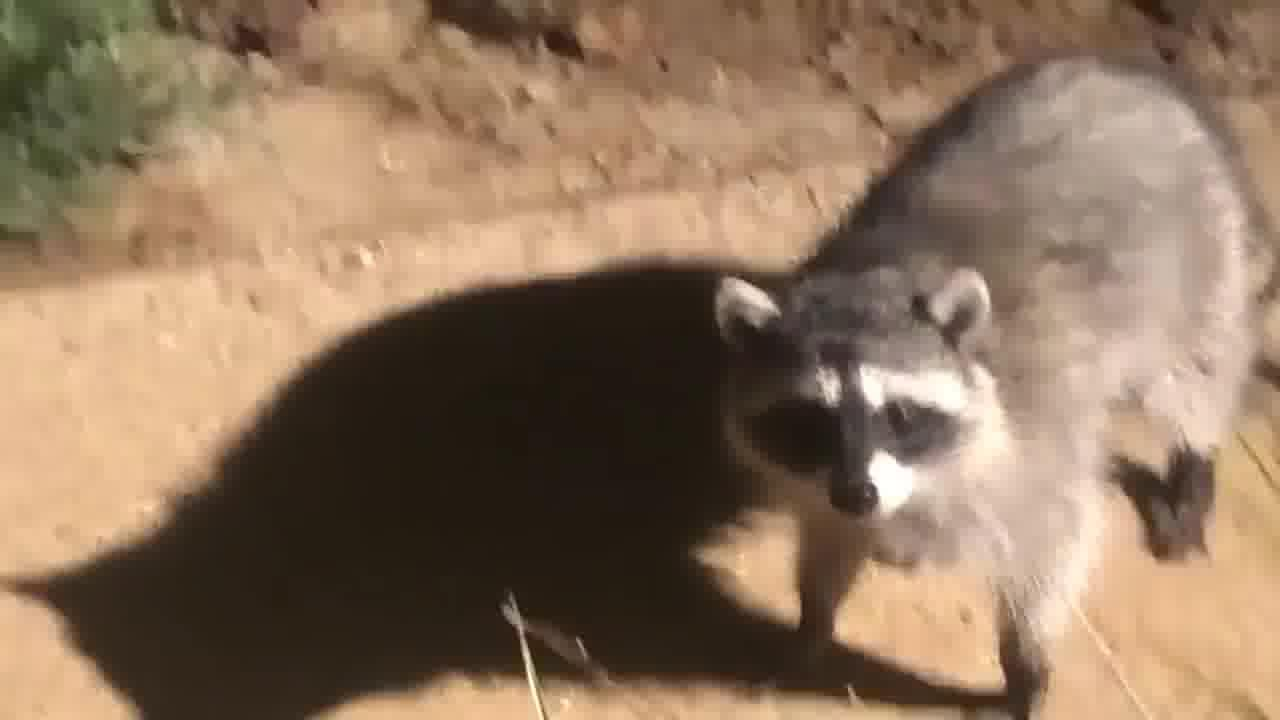raccoon: (719, 49, 1280, 720)
